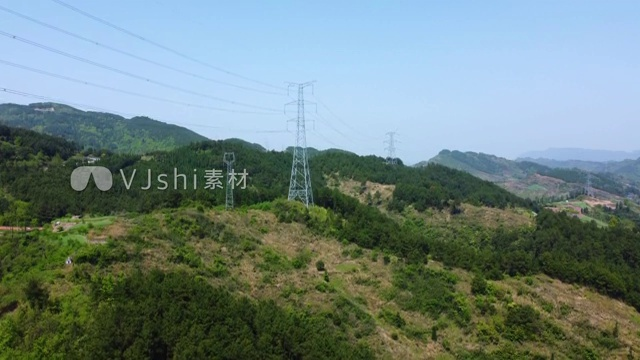tower_body: (278, 75, 321, 210)
tower_foot: (285, 177, 313, 206)
tower_head: (284, 79, 318, 94)
